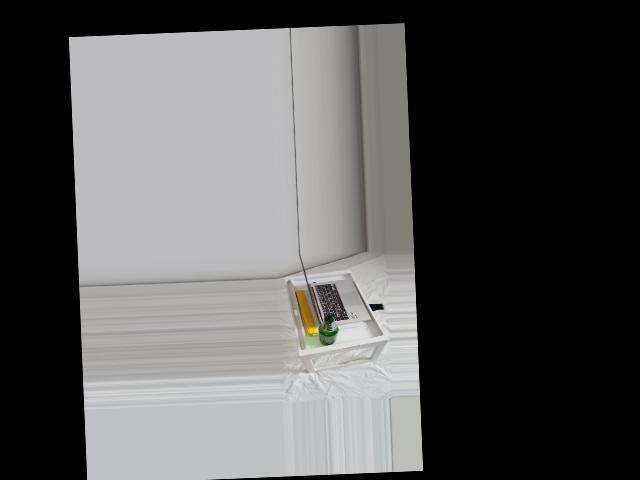beer: (317, 313, 338, 345)
